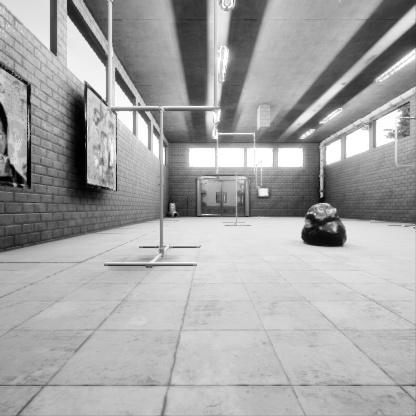gate: (114, 305, 224, 415), (218, 243, 257, 282), (398, 252, 416, 301), (256, 228, 262, 257)
